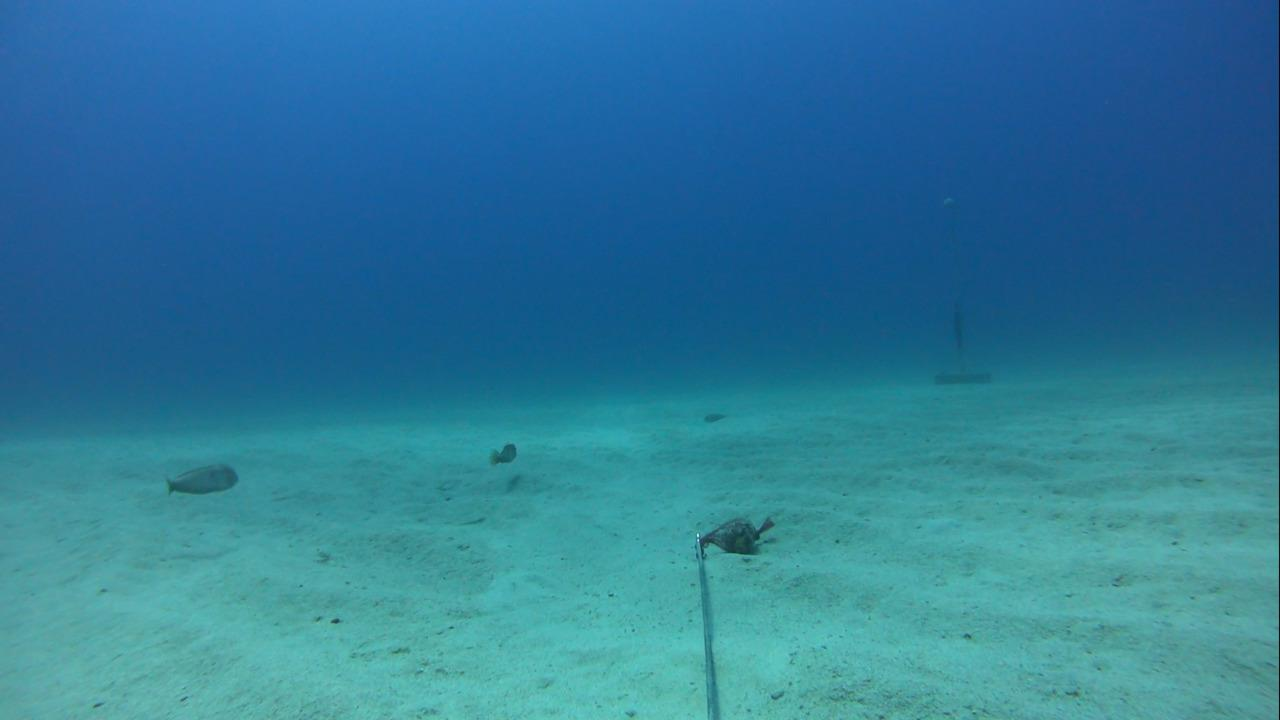raor: (159, 458, 251, 501), (481, 433, 530, 471)
